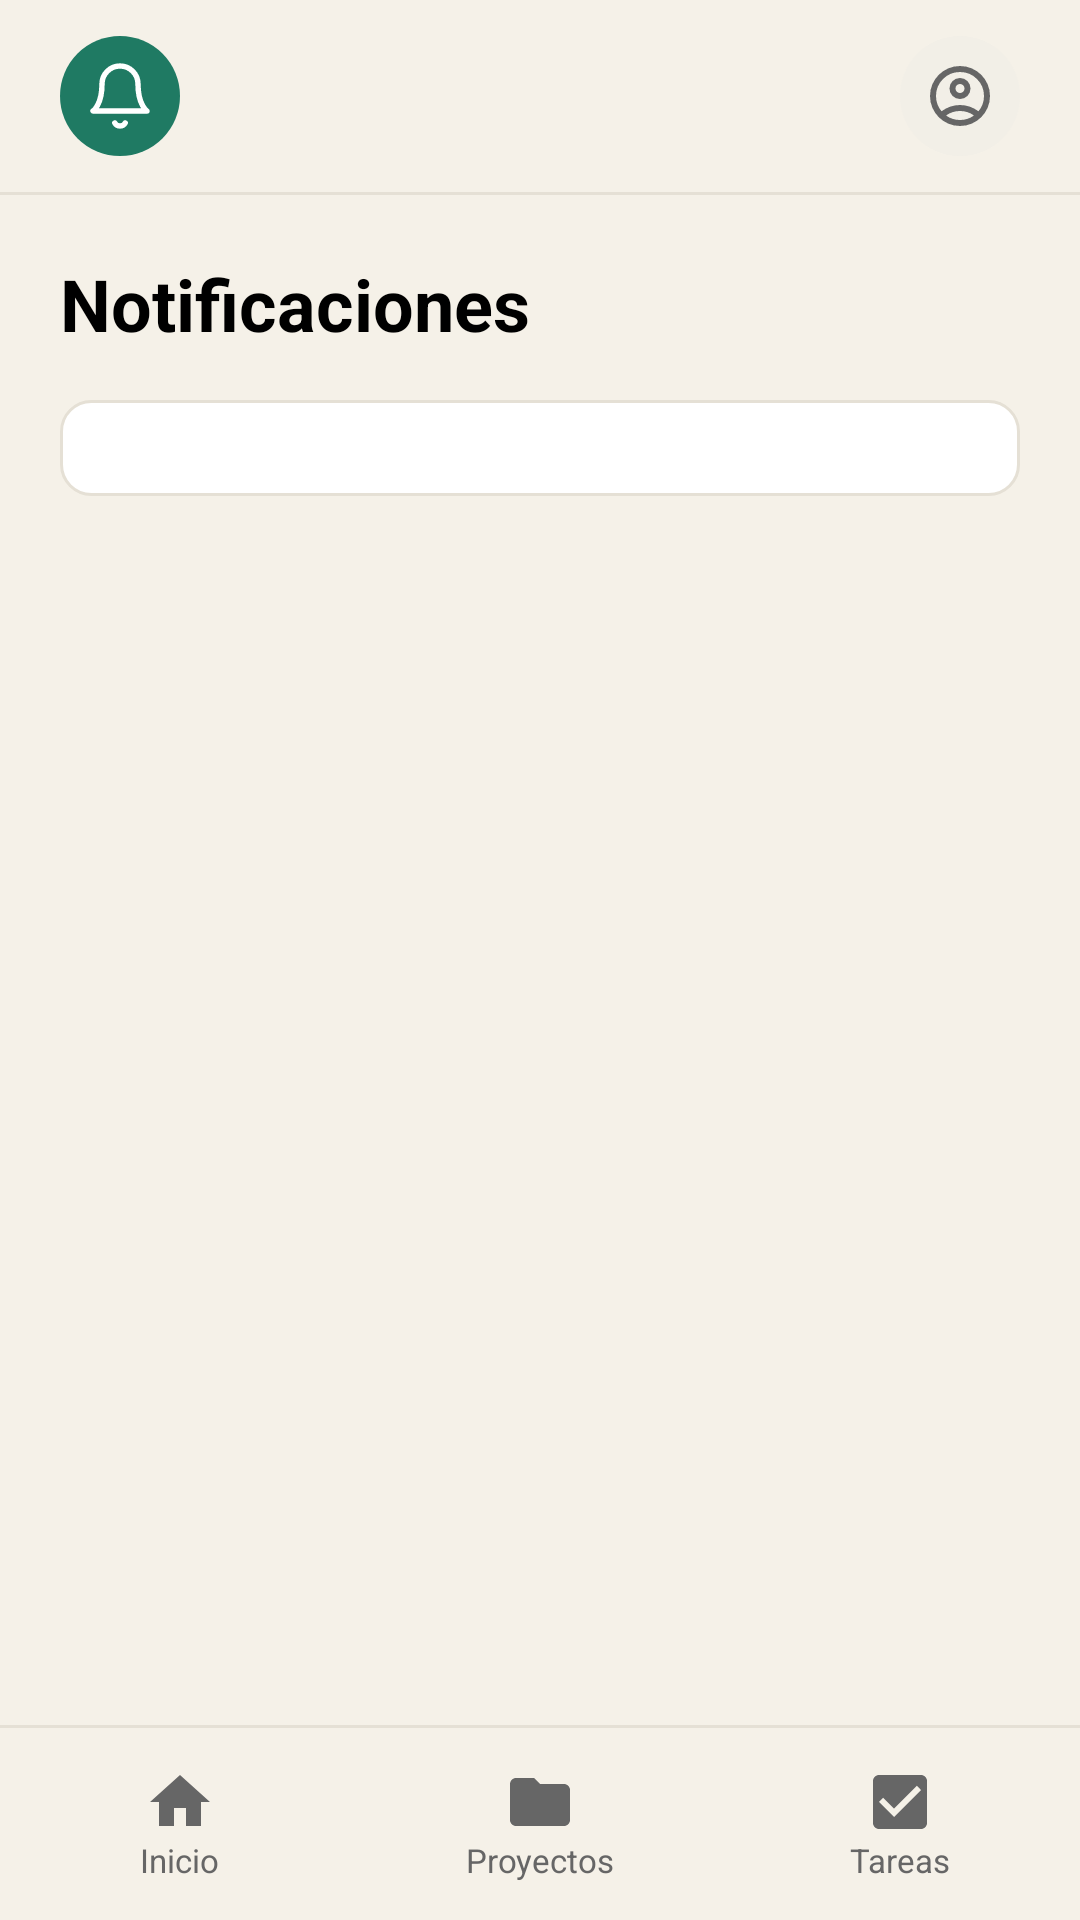

Icon click points for this 1080x1920 phone screenshot, format [x,y]:
Perfil: [960,96]
